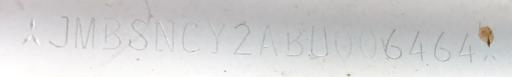letter: (47, 14, 71, 49), (152, 16, 176, 51), (125, 17, 149, 52), (74, 15, 96, 50), (100, 15, 122, 50), (204, 19, 226, 54), (181, 19, 203, 54), (231, 22, 253, 57), (257, 22, 279, 57), (307, 24, 329, 59), (382, 24, 404, 59), (456, 26, 476, 63), (282, 24, 304, 57), (332, 25, 352, 60), (358, 25, 378, 60), (432, 28, 452, 63), (408, 27, 426, 62)
